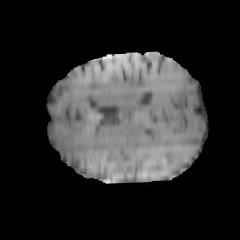glioma: (51, 127, 158, 178)
